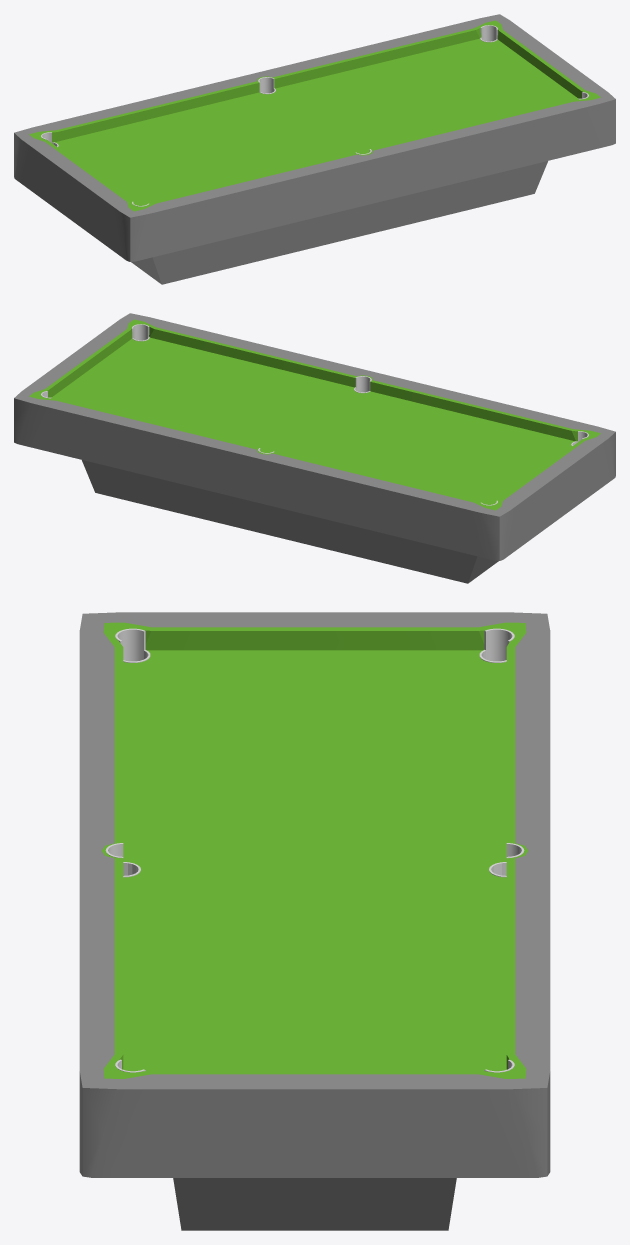
File: BilliardTable.fbx
3 views of the same model, one above another, from view 1: azimuth 30°, elevation 25°; view 2: azimuth 150°, elevation 25°; view 3: azimuth 270°, elevation 25° (orthographic). The views are drawn at different scales.
Parts seen in each view (by area): view 1: BilliardTable; view 2: BilliardTable; view 3: BilliardTable.
Boxes of the visible parts, x1,y1,x2,y2 form: BilliardTable: (14, 14, 615, 284); BilliardTable: (14, 313, 615, 583); BilliardTable: (79, 612, 550, 1230).
Bounding box in the file's own units: 6.43 × 1.25 × 2.69.
